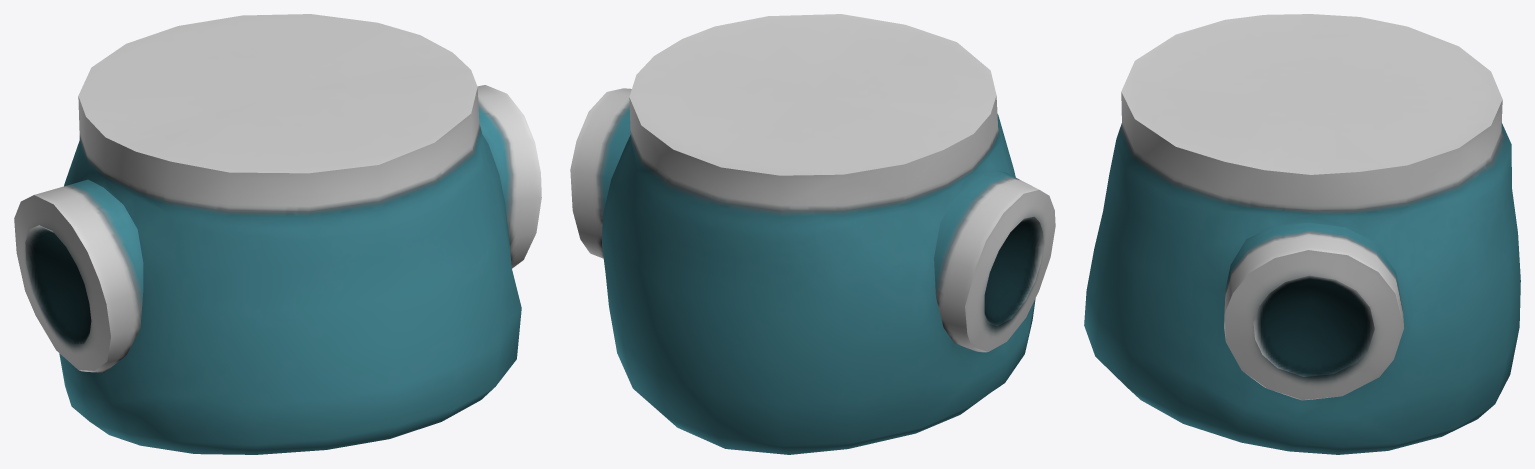
Rendered from IG_Armor_ColdProtect.fbx.
3 renders of one model, left to right at view 1: azimuth 30°, elevation 25°; view 2: azimuth 150°, elevation 25°; view 3: azimuth 270°, elevation 25°, orthographic. The views are drawn at different scales.
Parts seen in each view (by area): view 1: JLAB_ProtectiveClothes_Body; view 2: JLAB_ProtectiveClothes_Body; view 3: JLAB_ProtectiveClothes_Body.
Boxes of the visible parts, bbox=[...] form: JLAB_ProtectiveClothes_Body: bbox=[14, 14, 541, 454]; JLAB_ProtectiveClothes_Body: bbox=[570, 14, 1055, 454]; JLAB_ProtectiveClothes_Body: bbox=[1084, 14, 1520, 454].
Size of the model in its own units: 0.7204 by 0.4825 by 0.6302.
1 material, 1 textured.
